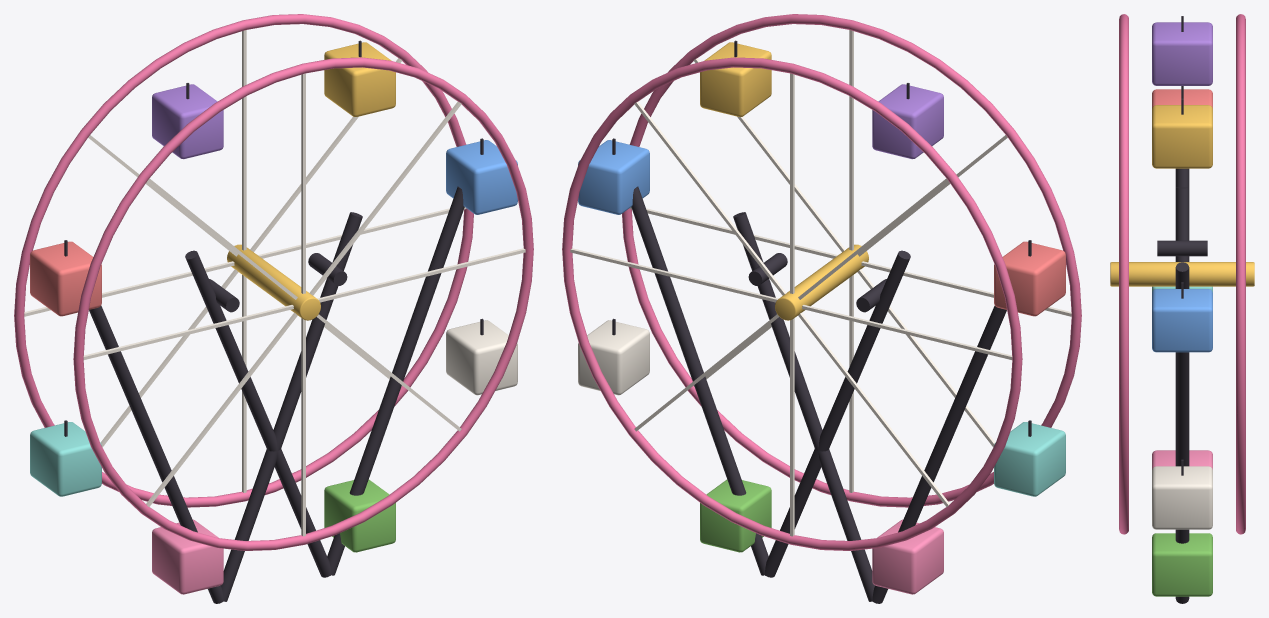
Rendered from ferris_wheel.glb.
3 renders of one model, left to right at view 1: azimuth 30°, elevation 25°; view 2: azimuth 150°, elevation 25°; view 3: azimuth 270°, elevation 25°, orthographic.
Visible parts, largest first — view 1: ferris_wheel; view 2: ferris_wheel; view 3: ferris_wheel.
Boxes of the visible parts, x1,y1,x2,y2 form: ferris_wheel: (14,14,533,603); ferris_wheel: (562,14,1081,603); ferris_wheel: (1110,14,1254,603).
Size of the model in its own units: 9.4 by 10.67 by 2.6.
